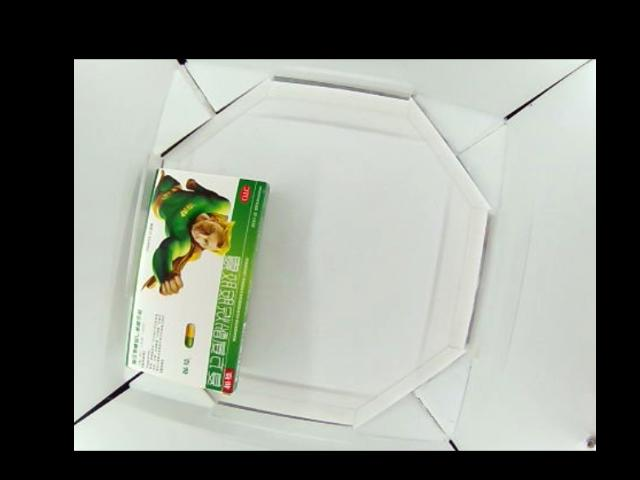Medicine: (128, 169, 268, 395)
